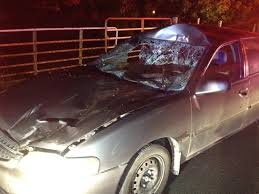Broken-glass: (96, 38, 204, 91), (22, 150, 102, 181)
Scratch: (181, 133, 199, 160)
Smashed: (7, 99, 121, 152)
